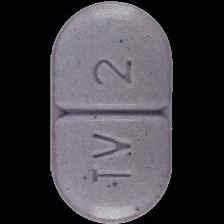61786-553: (0, 0, 224, 224)
